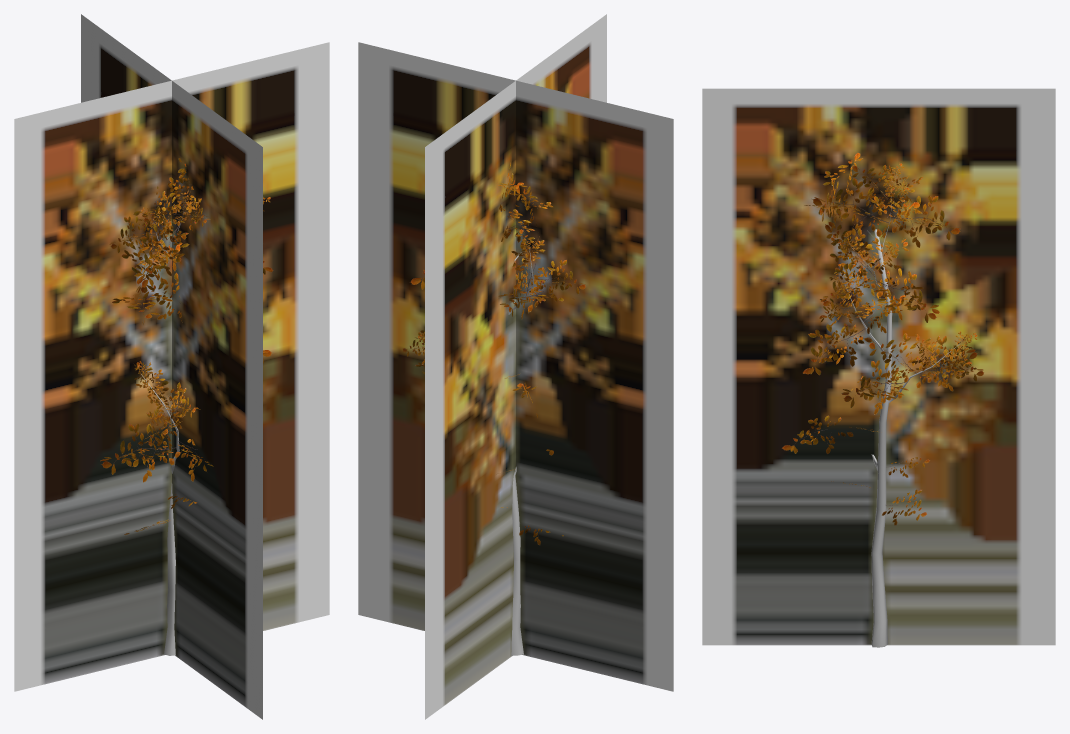
The model's file is Tree-Beech3C.fbx.
3 views of the same model, side by side, from view 1: azimuth 30°, elevation 25°; view 2: azimuth 150°, elevation 25°; view 3: azimuth 270°, elevation 25° (orthographic). The views are drawn at different scales.
Visible parts, largest first — view 1: Billboard-BeechC, Tree-Beech3C_LOD0; view 2: Billboard-BeechC, Tree-Beech3C_LOD0; view 3: Billboard-BeechC, Tree-Beech3C_LOD0.
Boxes of the visible parts, x1,y1,x2,y2 form: Billboard-BeechC: [14, 14, 329, 719]; Tree-Beech3C_LOD0: [100, 158, 273, 655]; Billboard-BeechC: [358, 14, 673, 719]; Tree-Beech3C_LOD0: [402, 163, 585, 655]; Billboard-BeechC: [702, 88, 1055, 645]; Tree-Beech3C_LOD0: [782, 153, 983, 647].
Size of what is drawn, in the model's own units: 946 by 1642 by 946.
